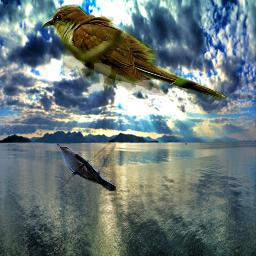Cuckoo: (41, 4, 227, 101), (55, 143, 116, 191)
